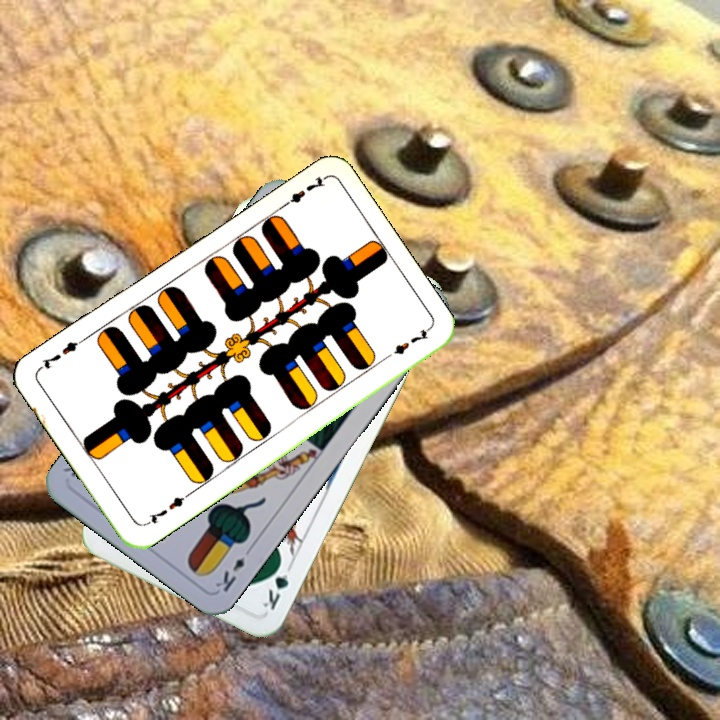E7: (140, 489, 192, 529), (276, 172, 328, 212)
EK: (211, 542, 256, 595)
GK: (258, 556, 295, 613)
